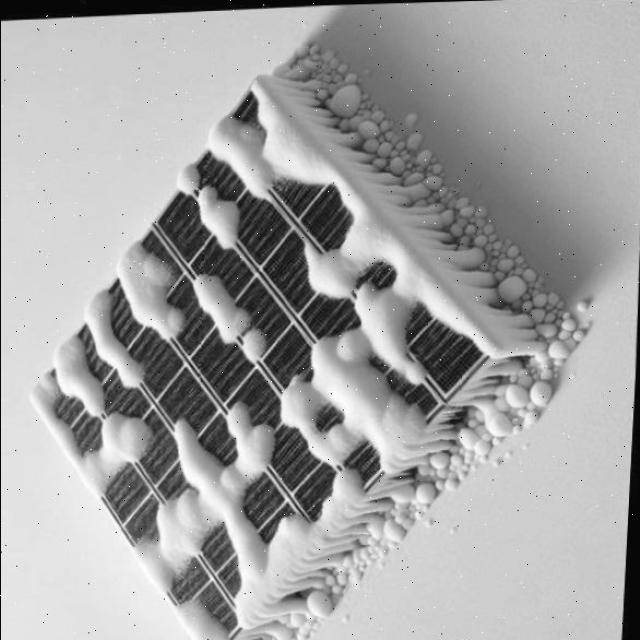Anomaly Solar Panel: (0, 70, 527, 640)
Snow: (104, 66, 511, 497), (88, 356, 375, 640), (12, 337, 168, 495), (109, 227, 199, 349), (79, 281, 152, 394), (47, 324, 115, 423), (182, 257, 262, 341), (176, 585, 243, 640), (198, 179, 243, 246), (238, 322, 266, 358), (176, 158, 202, 192)
